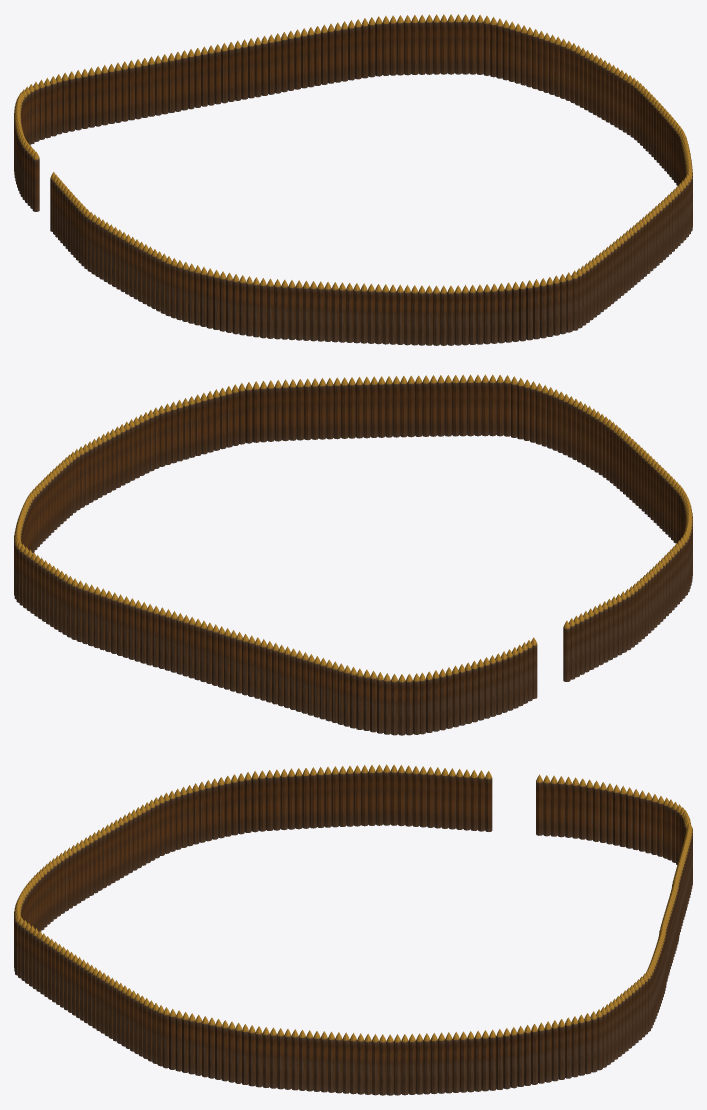
Rendered from walls.fbx.
The picture shows the model from 3 angles, top to bottom: view 1: azimuth 30°, elevation 25°; view 2: azimuth 150°, elevation 25°; view 3: azimuth 270°, elevation 25°; orthographic projection. The views are drawn at different scales.
Parts seen in each view (by area): view 1: Cylinder.012; view 2: Cylinder.012; view 3: Cylinder.012.
Part boxes in pixels (x1,y1,x2,y2): Cylinder.012: (14, 14, 692, 345); Cylinder.012: (14, 374, 692, 735); Cylinder.012: (14, 764, 692, 1095).
Size of the model in its own units: 5350 by 548 by 5623.
